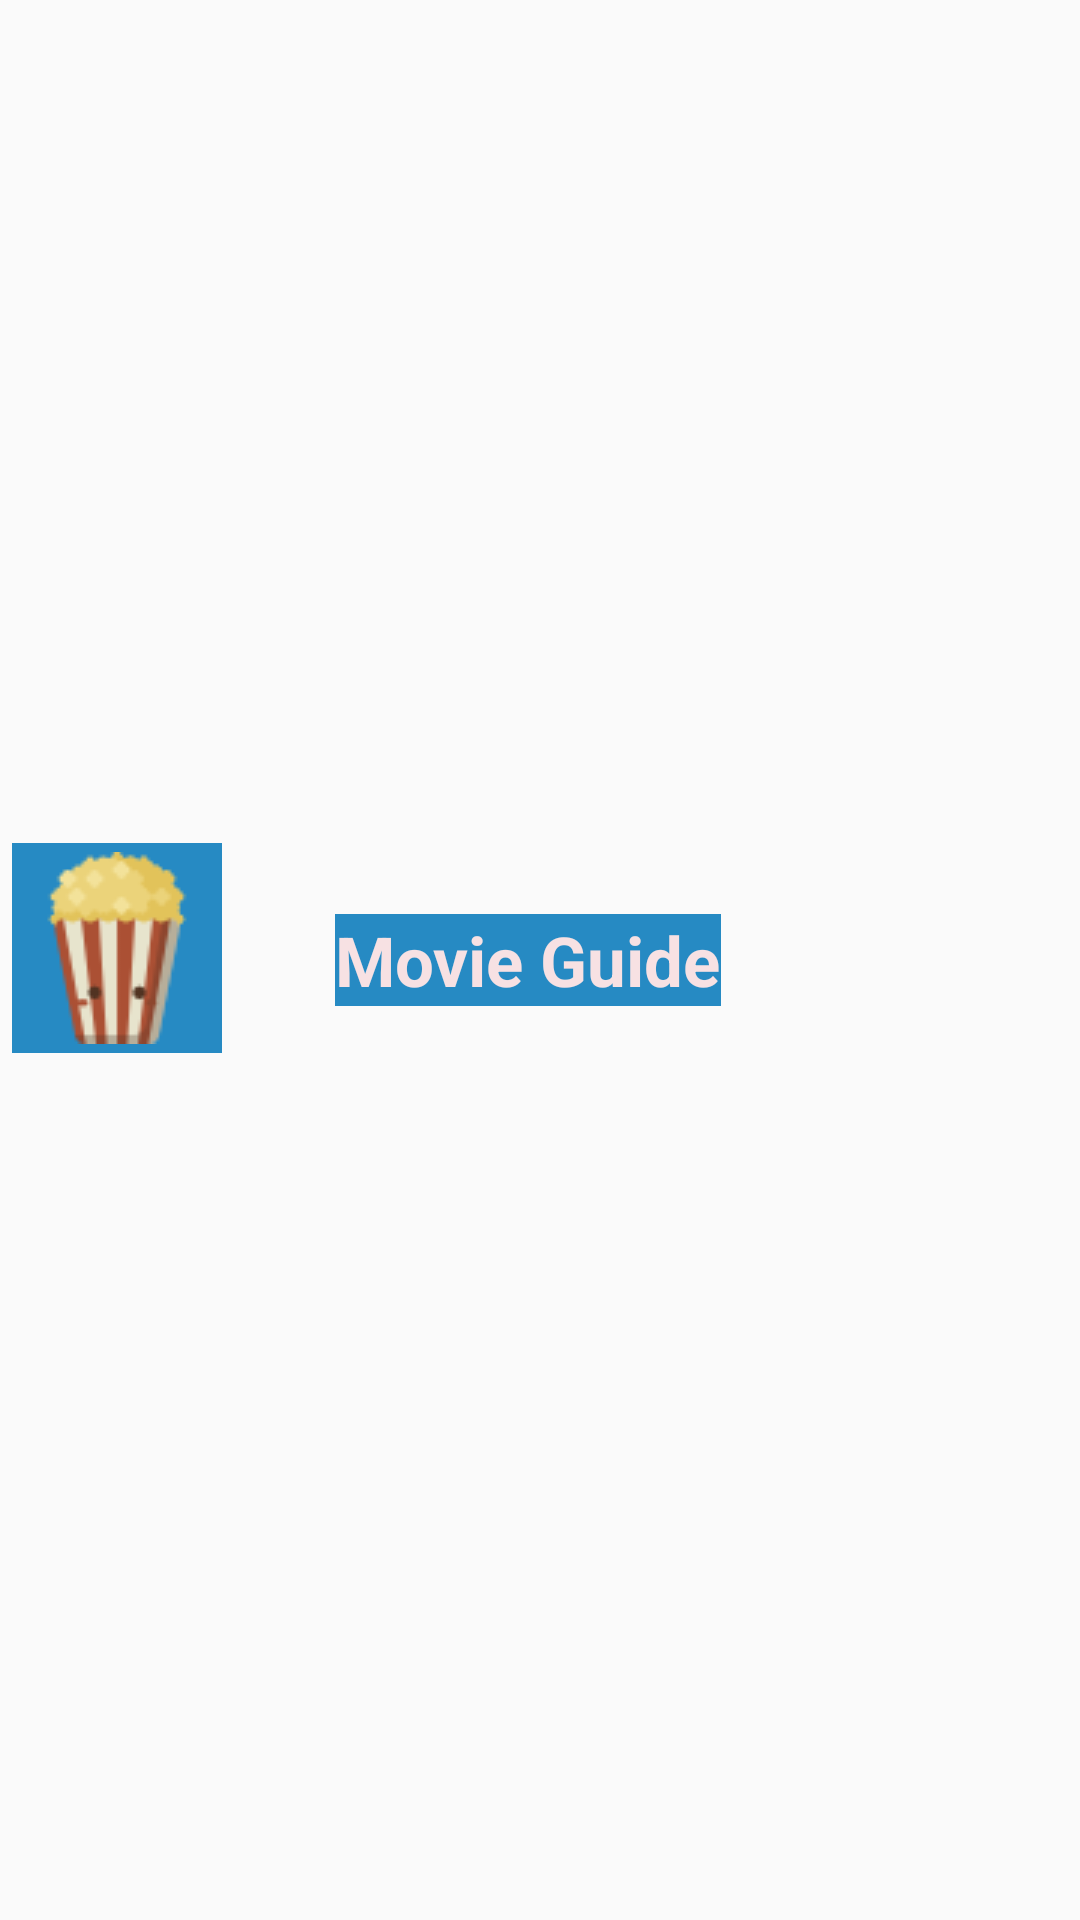

Icon bounding boxes for this 1080px×1920px phone screenshot, format detection(x1, y1, x2, y2):
popcorn: detection(12, 843, 222, 1053)
